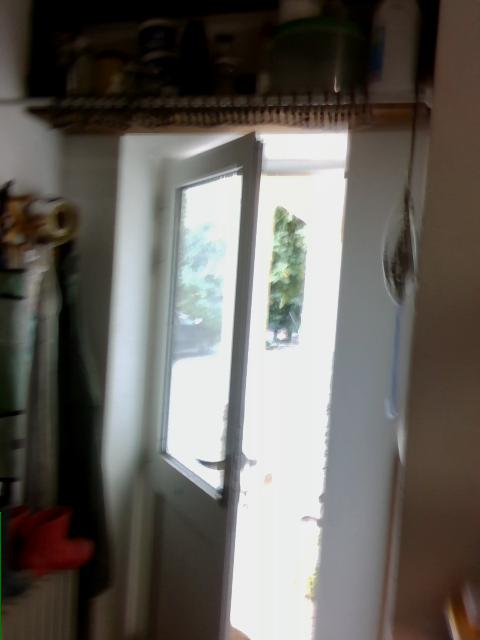semi_door: (134, 122, 350, 639)
